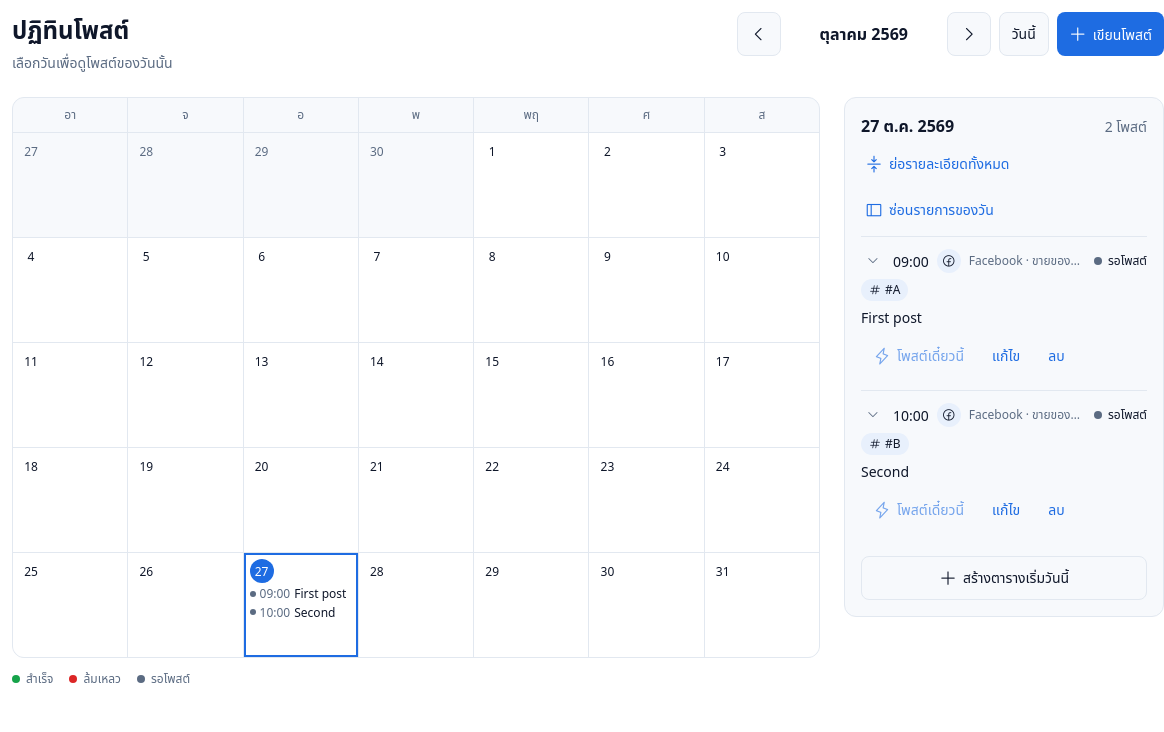
Test: CalendarPageComponent › folding the day list › folds one row to a single line and opens it again
This screenshot has width=1164, height=732.
Click the 1st button with class "fold": [873, 261] box [861, 249, 885, 273]
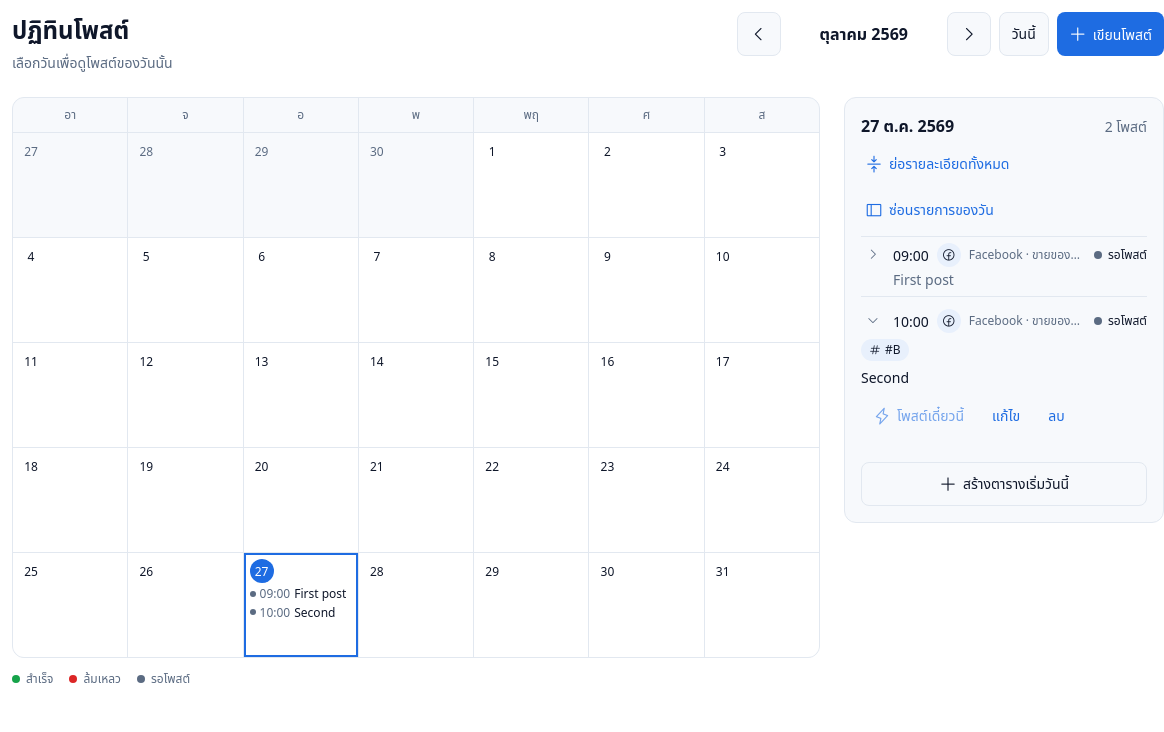
Expected: the 2nd text "First post" is shown, [294, 586, 346, 602]
Expected: the button with class "fold" is collapsed
Expected: the text "#A" is gone
Click the 1st button with class "fold": [873, 255] box [861, 243, 885, 267]
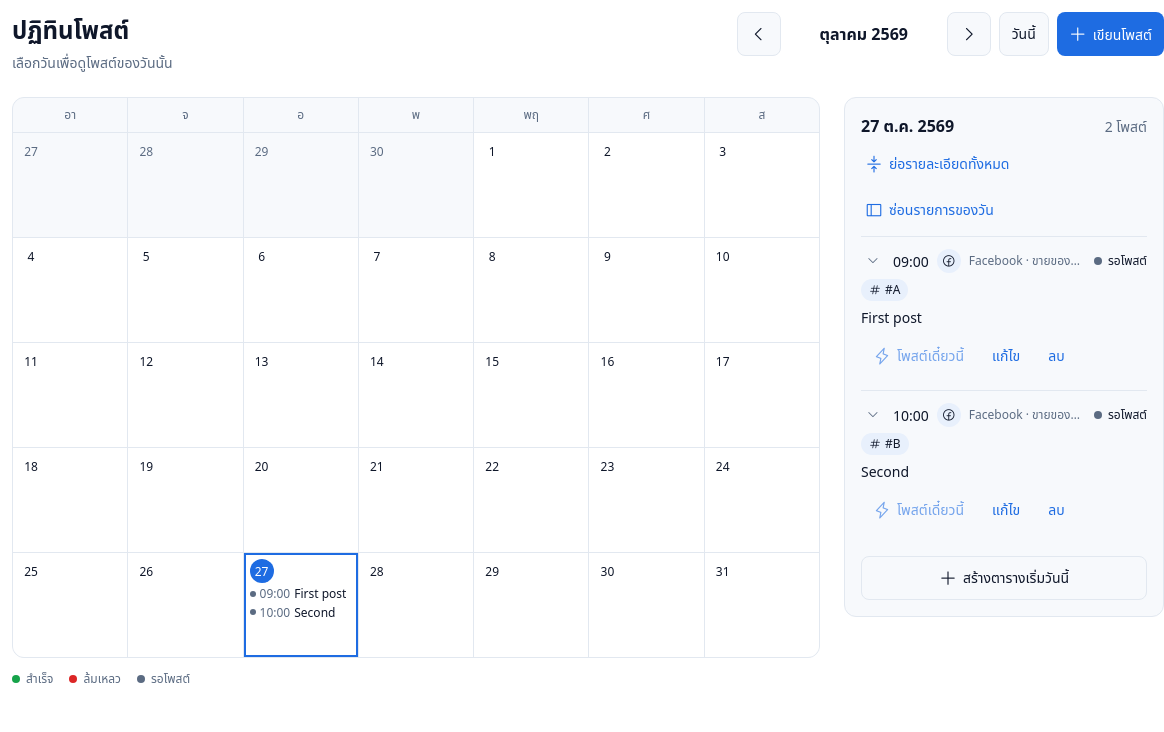
Expected: the 1st button with class "fold" is expanded, [861, 249, 885, 273]
Expected: the element with class "btns" below "#A" is shown, [861, 334, 1077, 378]
